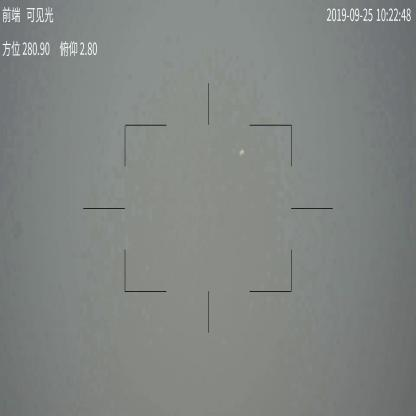uav: (240, 150, 247, 159)
